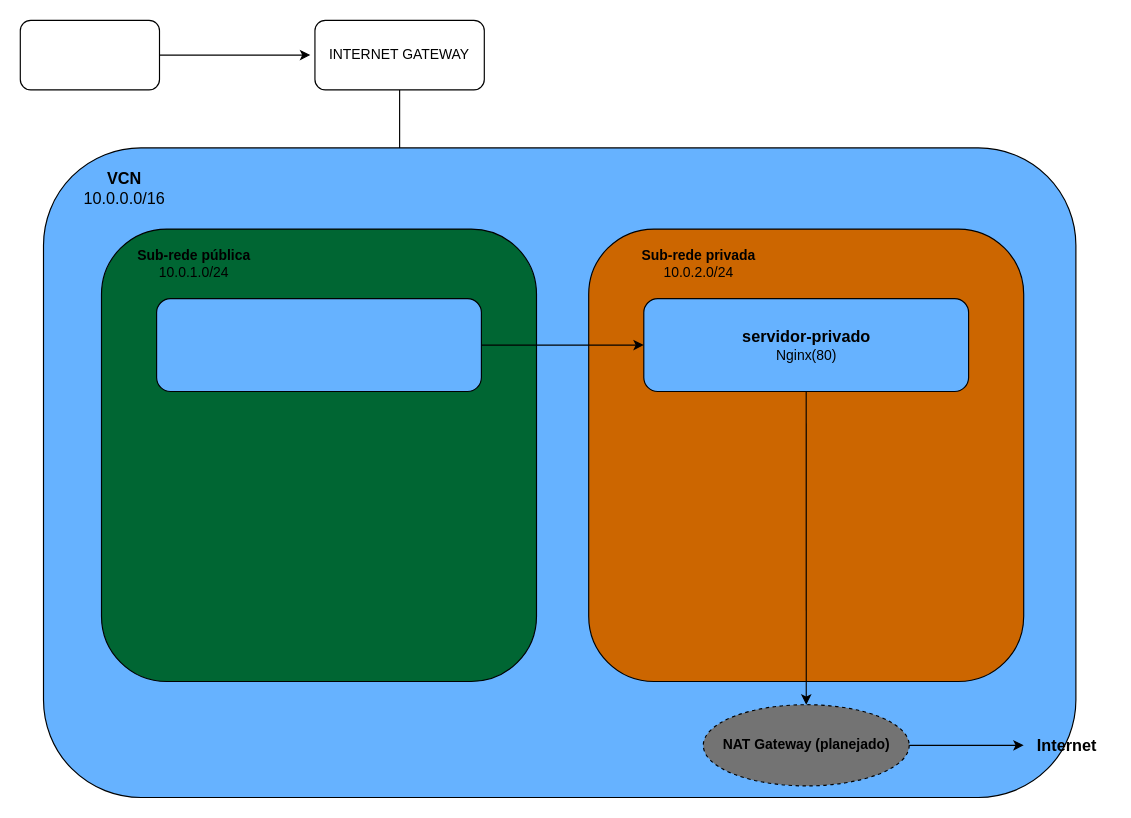
Some shapes in this 1131 by 818 pixel diagram are drawn without their labels. The centre of each missing label's shape, as x and y in pixels:
bastion-host SSH público (22): pixel 318 345
USUÁRIO: pixel 89 54
